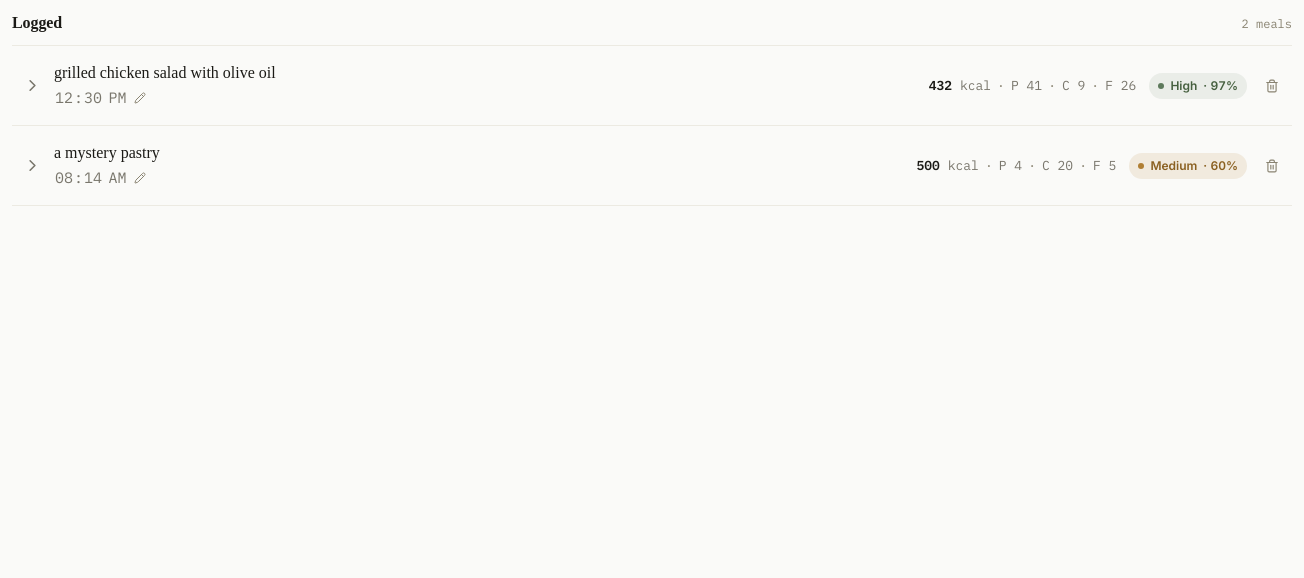
Scenario: MealList › reveals the breakdown when expanded, with the trace behind the agent's-work dropdown
Check: the text "140 g" is not shown
What coordinates should you click on to do the following:
click the button with class "meal-head" that starts with "grilled chicken salad with olive oil"
I would click on:
 (165, 72)
Its box is [22, 64, 1284, 109].
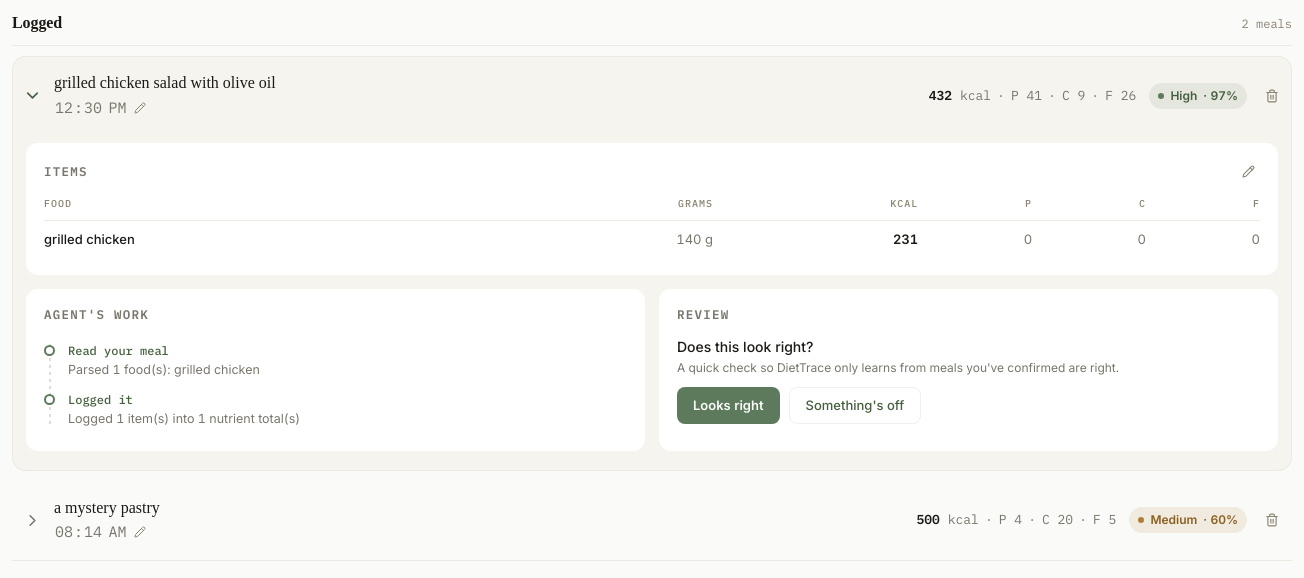
Check: the text "140 g" is shown, box [467, 221, 713, 259]
Check: the text "Does this look right?" is shown, box [677, 338, 813, 355]
Check: the text "Parsed 1 food(s): grilled chicken" is shown, box [68, 362, 260, 377]
